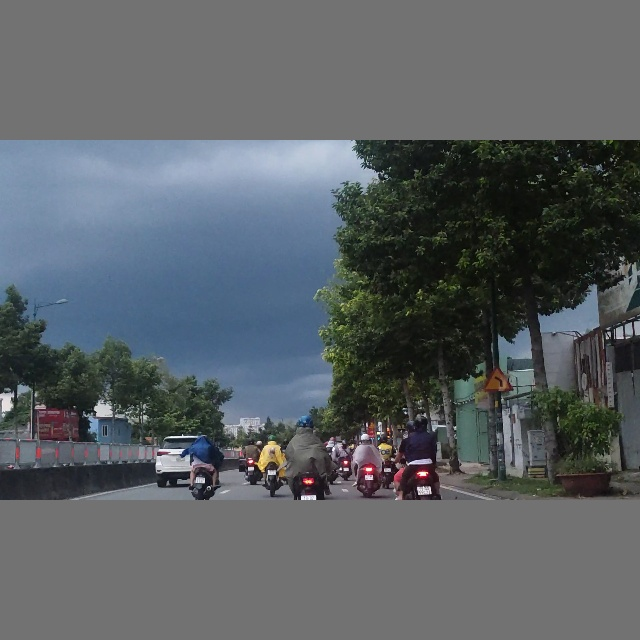W.201a: (482, 366, 514, 392)
